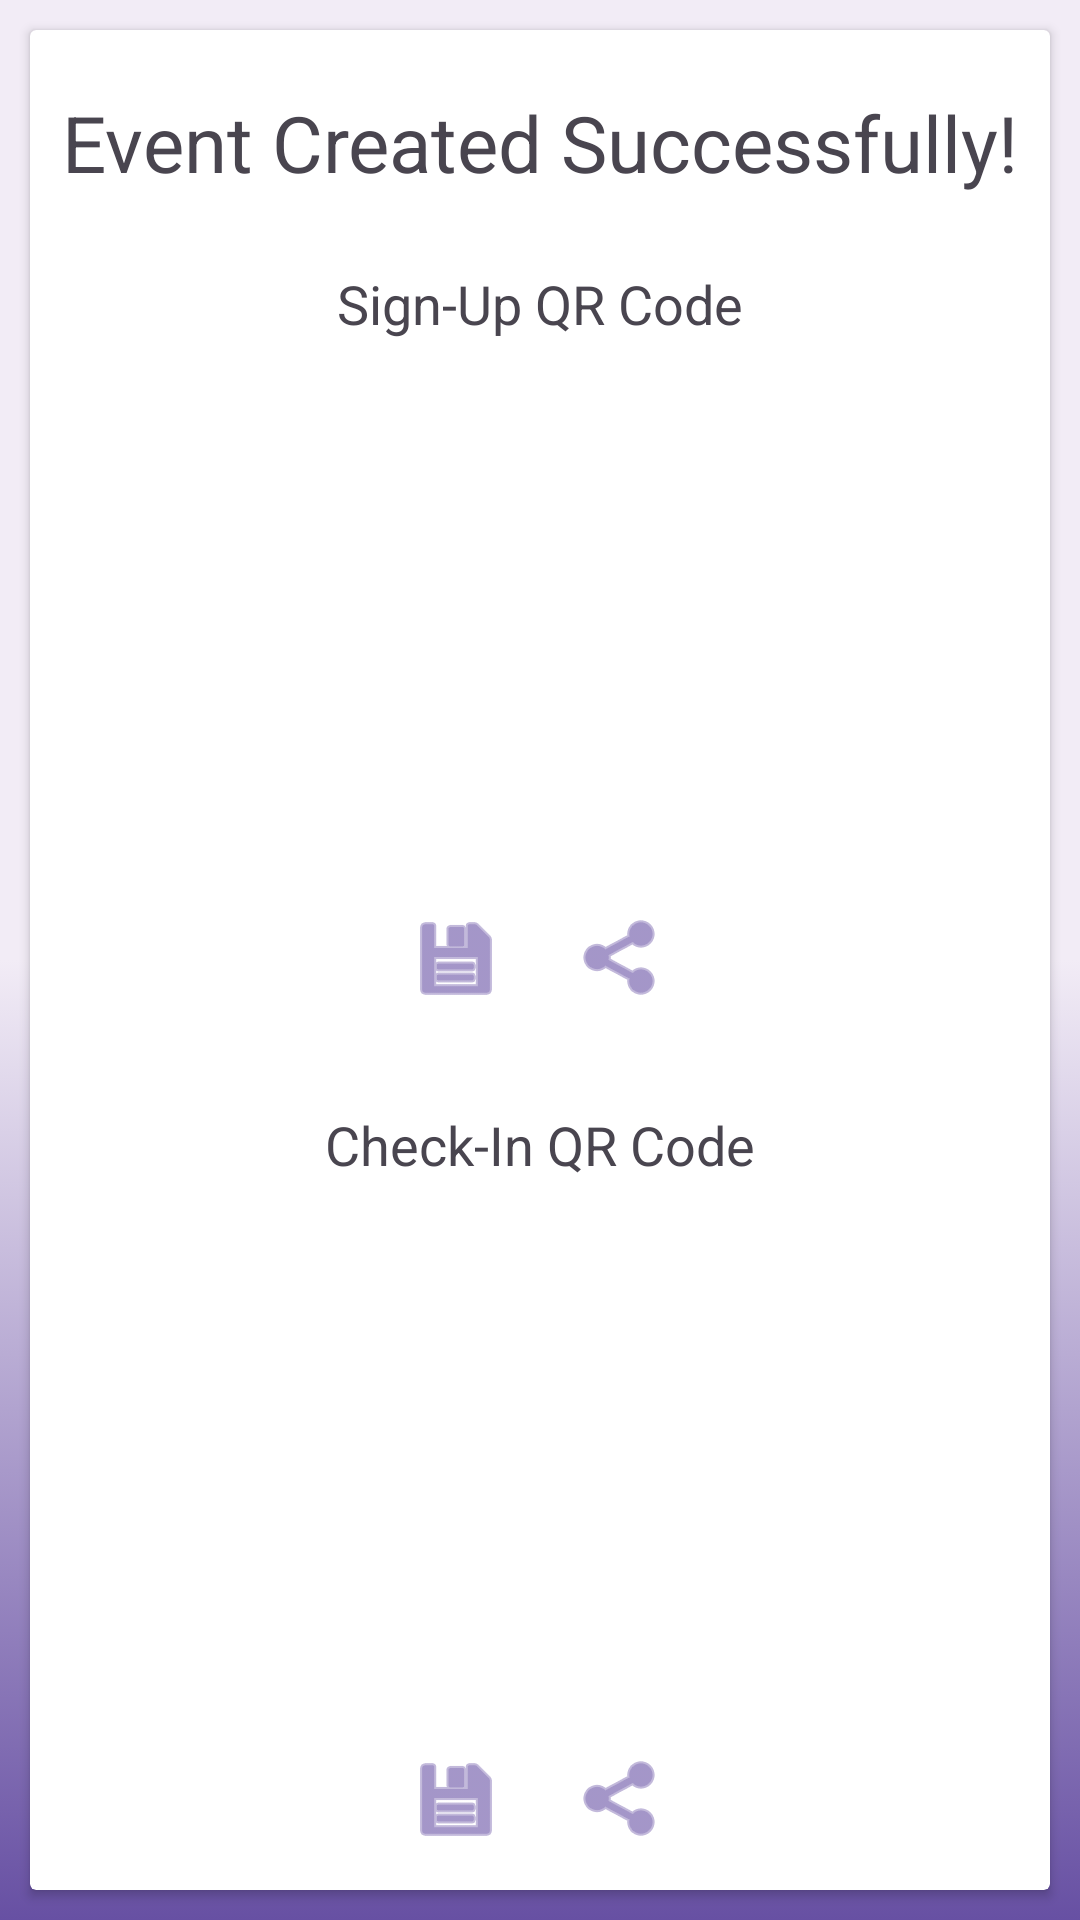

Point at icon controls on the screen. Image size 1080x1920, points as (x=x, y=y).
save: (x=456, y=958), (x=456, y=1799)
share: (x=619, y=957), (x=619, y=1798)
